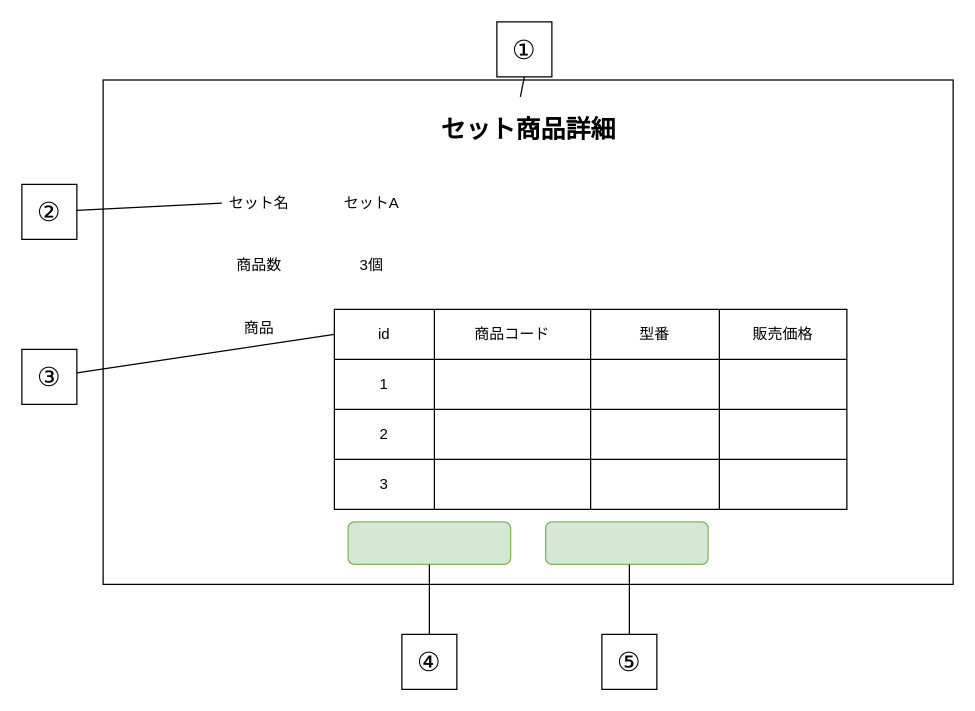
The diagram is 975 pixels wide and 711 high, and some of its shapes have lost their labels. Each missing label, with the centre of its shape:
削除: (x=626, y=542)
編集: (x=429, y=542)
